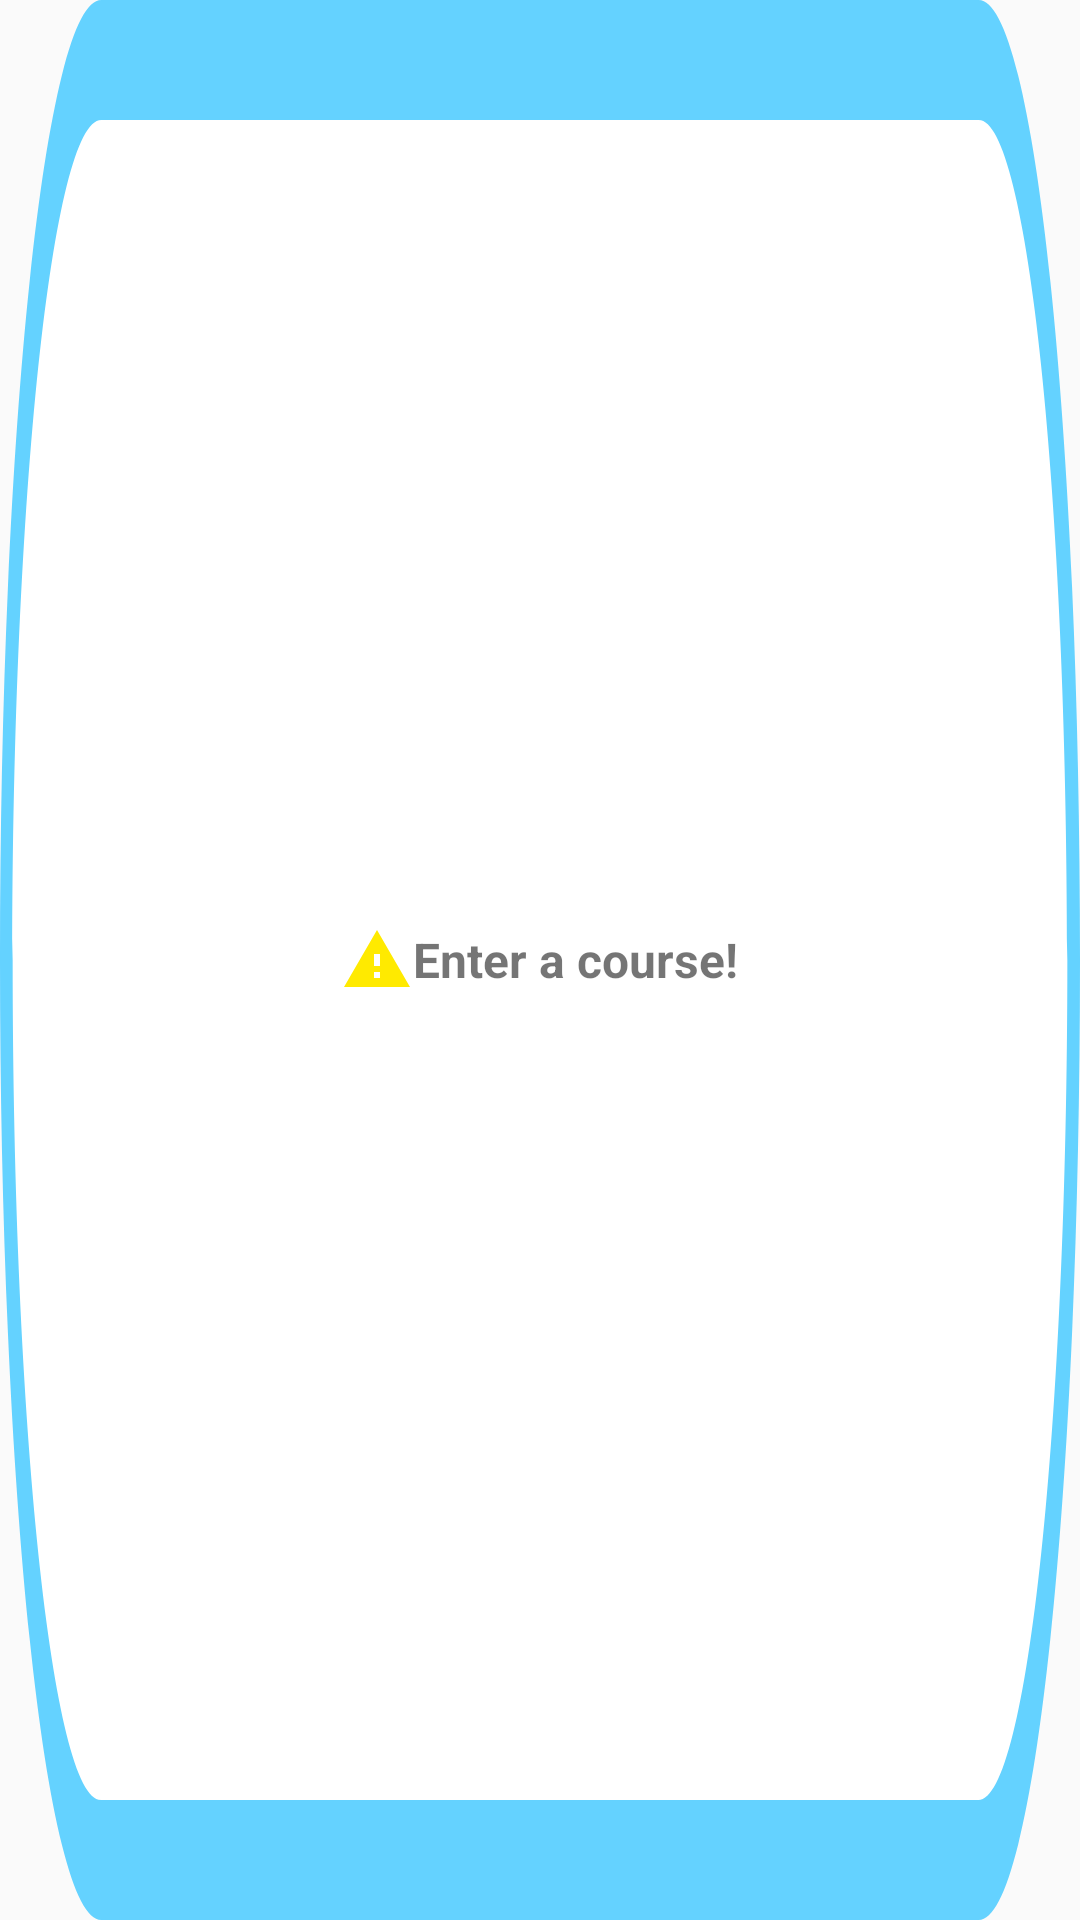

Icons on this 1080px×1920px Android screen, each with its box as bbox=[x1, y1, x2, y2]:
warning: bbox=[344, 930, 410, 987]
